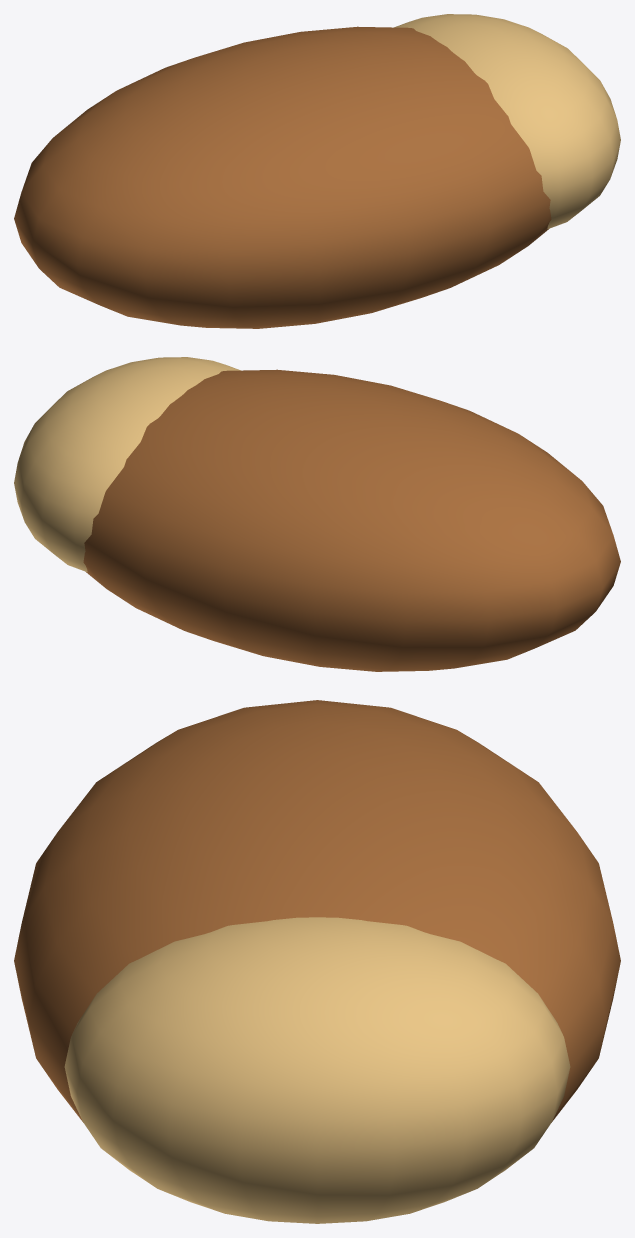
The model's file is bread-crust.glb.
3 views of the same model, one above another, from view 1: azimuth 30°, elevation 25°; view 2: azimuth 150°, elevation 25°; view 3: azimuth 270°, elevation 25° (orthographic). The views are drawn at different scales.
Parts seen in each view (by area): view 1: bread-crust; view 2: bread-crust; view 3: bread-crust.
Boxes of the visible parts, left/top/right/bottom form: bread-crust: left=14, top=14, right=620, bottom=328; bread-crust: left=14, top=357, right=620, bottom=671; bread-crust: left=14, top=700, right=620, bottom=1223.
Size of the model in its own units: 0.57 by 0.22 by 0.36.
